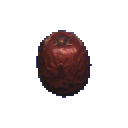gd: (27, 21, 100, 107)
